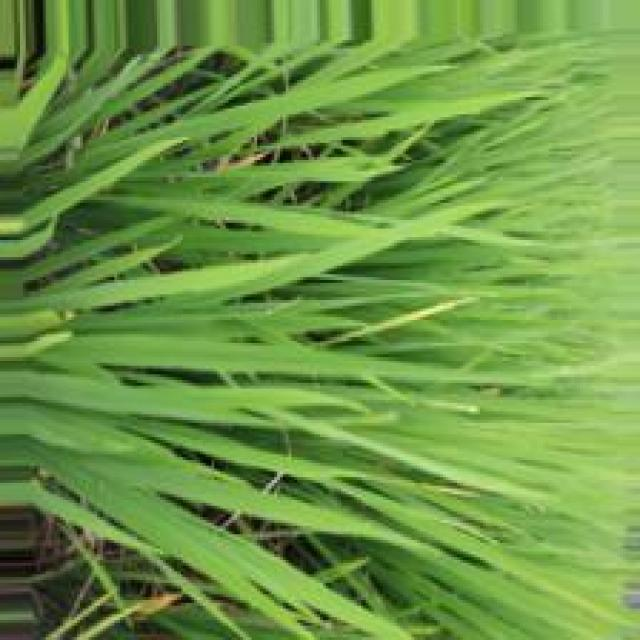HealthyLeaf: (488, 58, 614, 316), (488, 336, 614, 587)
